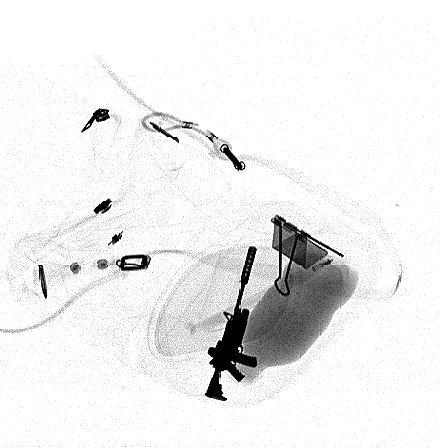Gun: (205, 241, 260, 402)
